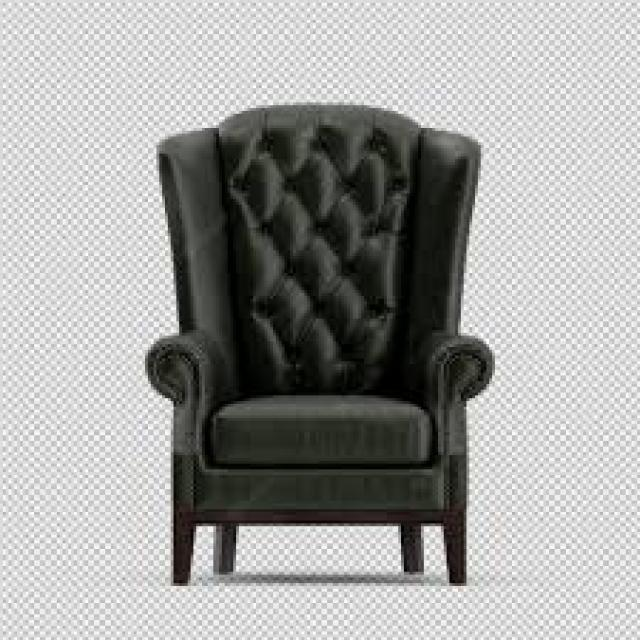chair: (69, 52, 558, 640)
